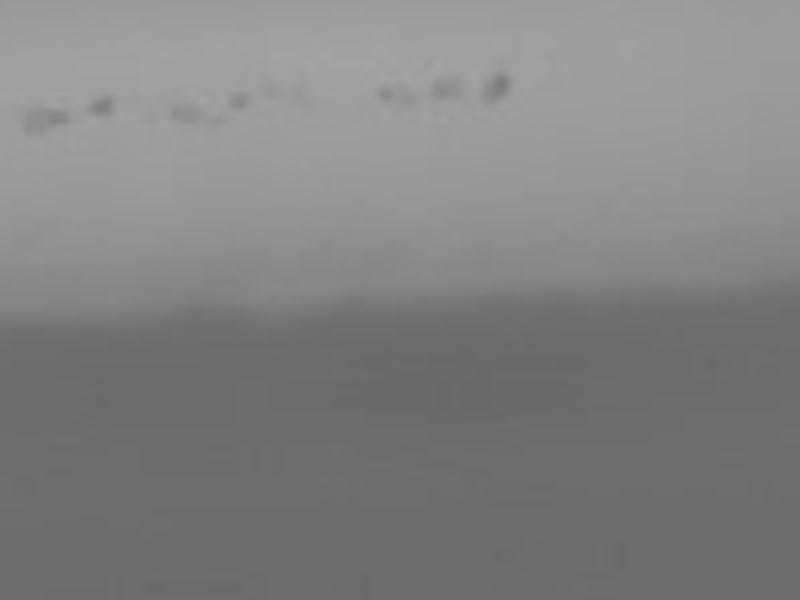defect: (165, 97, 225, 125), (18, 104, 71, 134), (375, 78, 420, 113), (475, 68, 512, 102), (288, 79, 320, 115), (431, 69, 467, 100), (222, 86, 257, 110), (260, 75, 287, 106), (84, 93, 117, 117), (143, 109, 155, 123)
